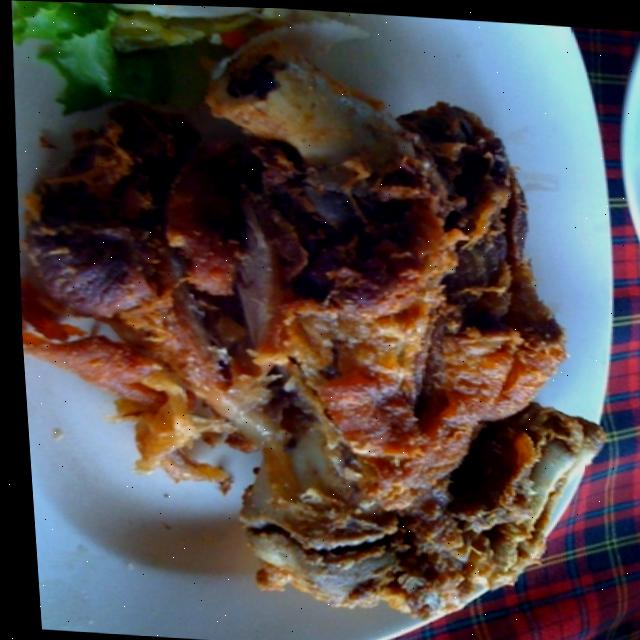猪肉菜式: (0, 0, 611, 635)
